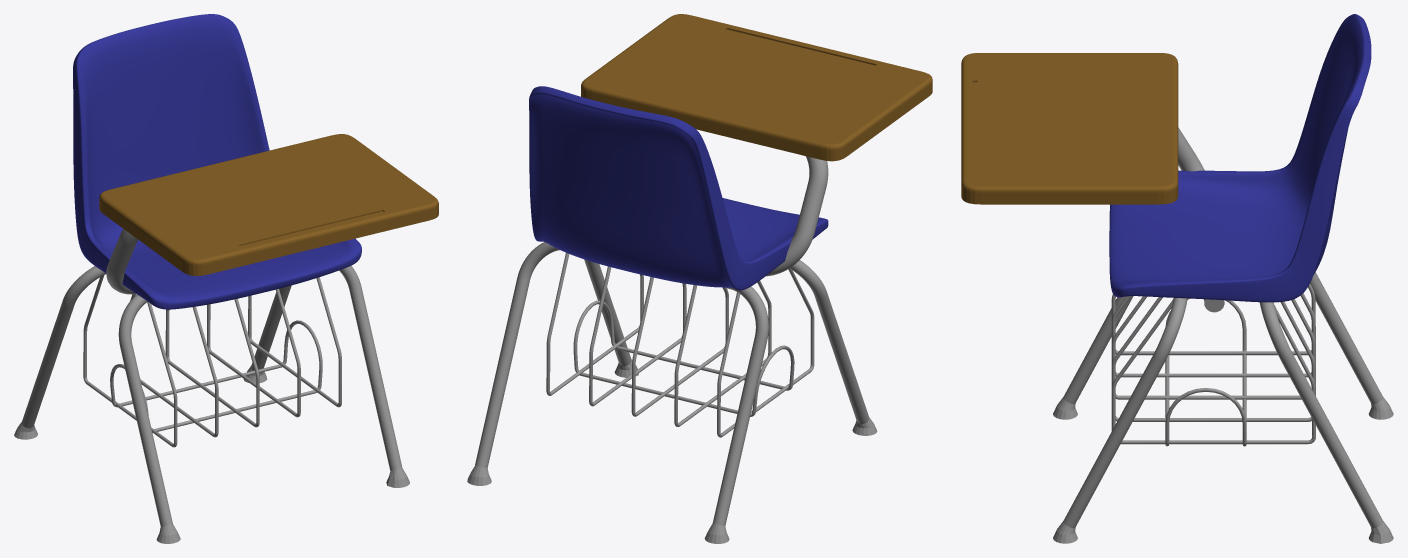
Rendered from silla escolar.FBX.
3 renders of one model, left to right at view 1: azimuth 30°, elevation 25°; view 2: azimuth 150°, elevation 25°; view 3: azimuth 270°, elevation 25°, orthographic. The views are drawn at different scales.
Visible parts, largest first — view 1: obj_01, Box001, Rectangle001, Line005, Rectangle002, Shape001; view 2: obj_01, Box001, Rectangle001, Line005, Shape001, Rectangle002; view 3: Box001, obj_01, Rectangle001, Line005, Rectangle002, Shape001.
Part boxes in pixels (x1,y1,x2,y2): obj_01: [73, 14, 361, 309]; Box001: [99, 134, 438, 275]; Rectangle001: [14, 265, 409, 543]; Line005: [83, 275, 341, 447]; Rectangle002: [110, 320, 322, 432]; Shape001: [106, 229, 138, 294]; obj_01: [529, 86, 828, 290]; Box001: [581, 14, 932, 161]; Rectangle001: [467, 242, 877, 543]; Line005: [546, 252, 814, 437]; Shape001: [766, 156, 828, 276]; Rectangle002: [573, 300, 794, 416]; Box001: [961, 53, 1178, 204]; obj_01: [1109, 14, 1371, 302]; Rectangle001: [1053, 272, 1393, 543]; Line005: [1111, 284, 1315, 444]; Rectangle002: [1165, 298, 1246, 446]; Shape001: [1178, 127, 1224, 312].
Size of the model in its own units: 57.86 by 80.82 by 73.96.
